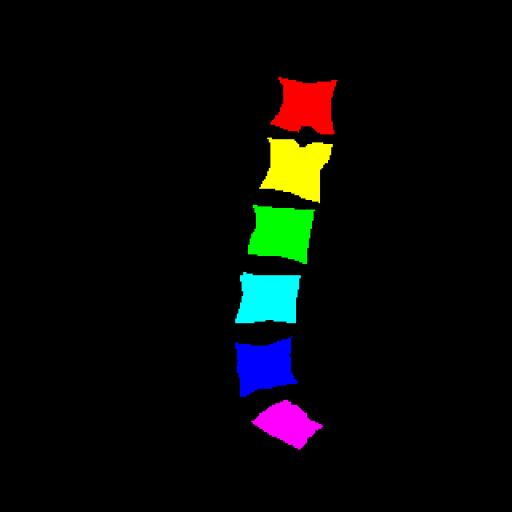L1: (271, 77, 337, 134)
L2: (260, 138, 333, 202)
L3: (248, 205, 314, 264)
L4: (236, 272, 300, 323)
L5: (235, 338, 297, 396)
S1: (252, 400, 323, 450)
